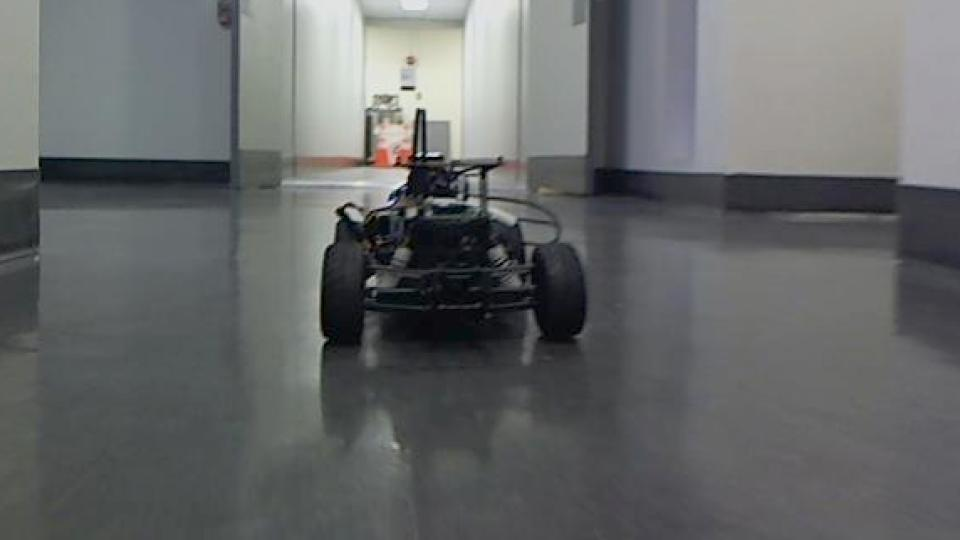car: (314, 106, 591, 350)
